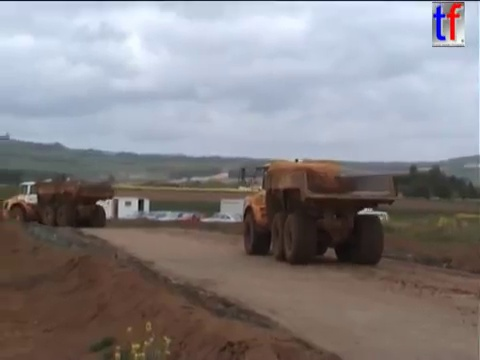truck: (237, 157, 399, 267), (2, 174, 116, 229)
